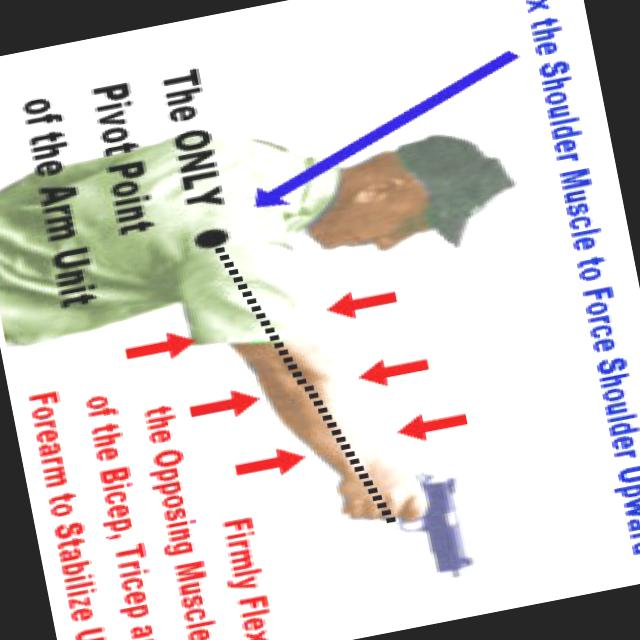handgun: (325, 454, 488, 594)
